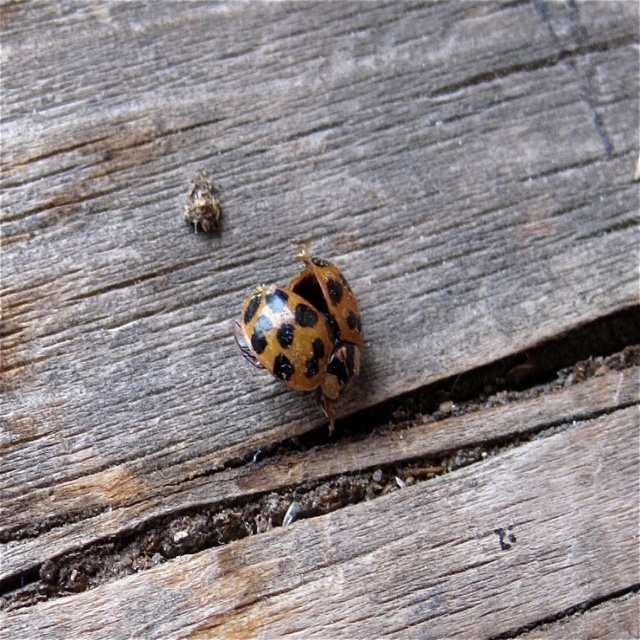Ladybug: (233, 251, 365, 434)
